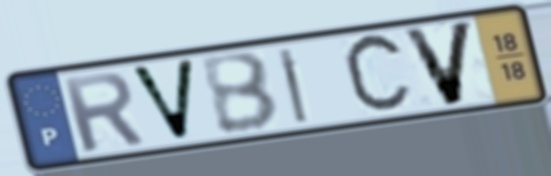B: (196, 49, 284, 138)
C: (339, 28, 417, 121)
I: (274, 45, 311, 127)
R: (57, 69, 148, 156)
V: (398, 18, 478, 110), (125, 57, 199, 145)
